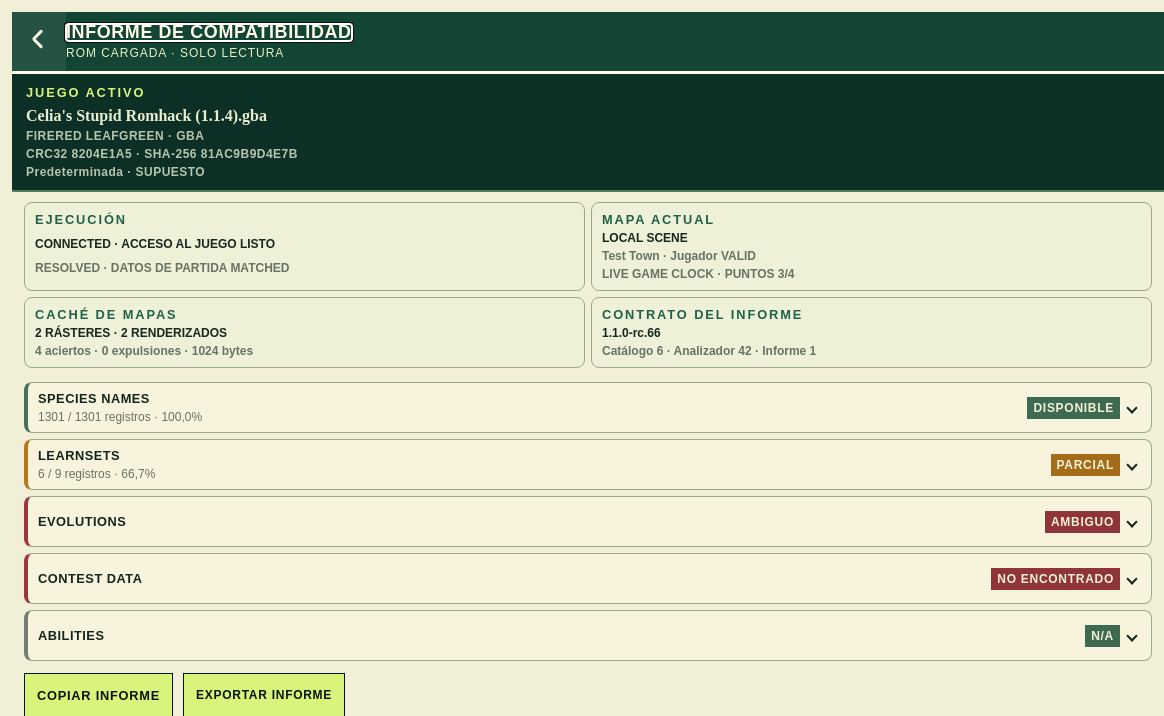
Test: loaded ROM capability report › keeps diagnostic evidence stable under translated controls
This screenshot has width=1164, height=716.
Check: the heading "INFORME DE COMPATIBILIDAD" is shown, box [66,24,352,41]
Click the button with aria-label "Species names DISPONIBLE" at (94, 398), box [28,383,1151,432]
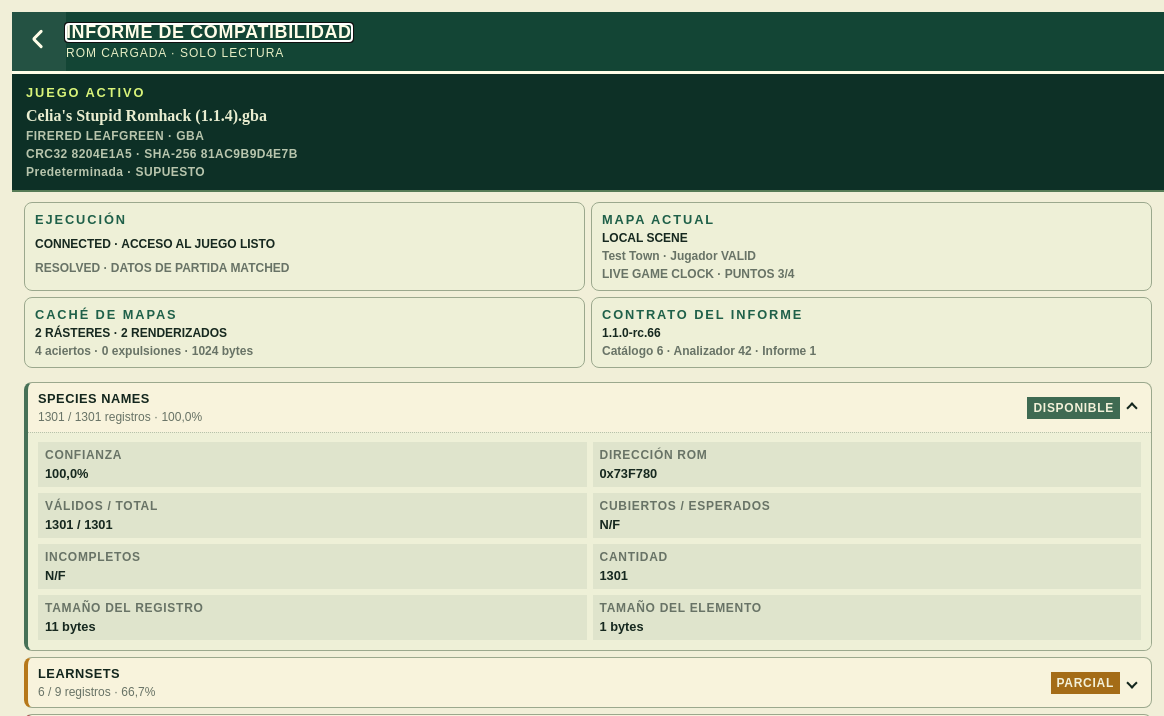
Check: the element with class "capability-available" is shown, box [24,382,1152,651]
Check: the text "0x73F780" is shown, box [600,466,657,481]
